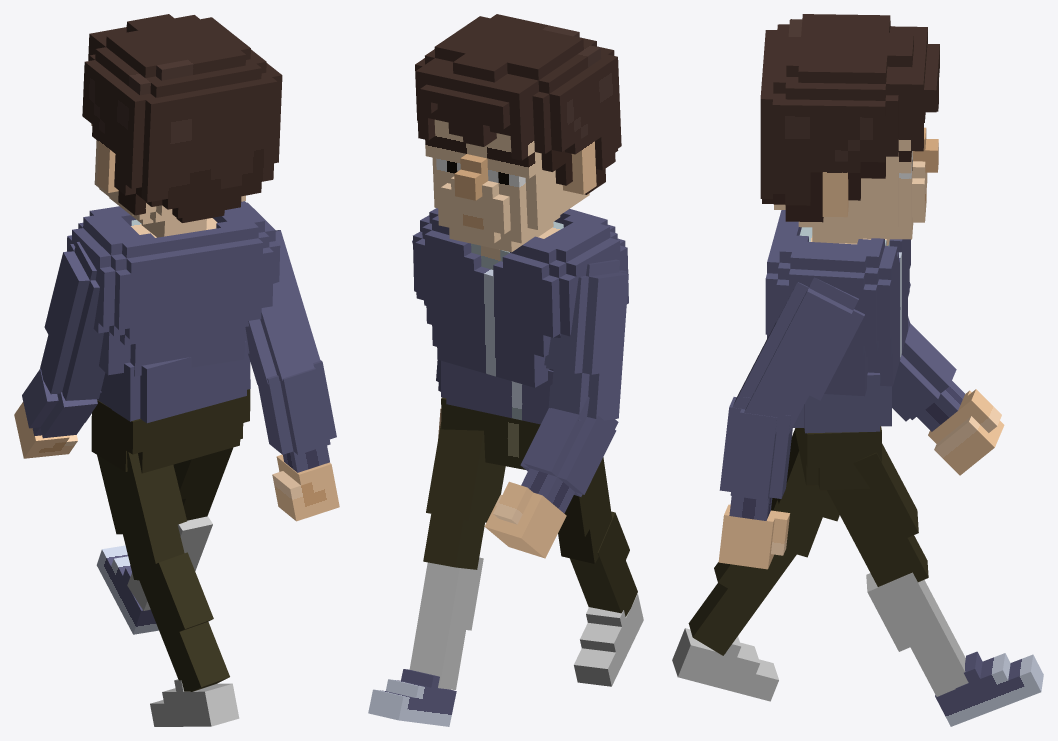
The model's file is older_walk_2.dae.
3 views of the same model, side by side, from view 1: azimuth 30°, elevation 25°; view 2: azimuth 150°, elevation 25°; view 3: azimuth 270°, elevation 25° (orthographic). The views are drawn at different scales.
Visible parts, largest first — view 1: Head-Local, Chest-Local, Hip-Local, Left_Arm-Local, Belly-Local, Left_Leg-Local, Left_Thigh-Local, Right_Forearm-Local, Right_Arm-Local, Left_Foot-Local, Right_Hand-Local, Left_Forearm-Local (+4 smaller); view 2: Head-Local, Chest-Local, Left_Arm-Local, Right_Thigh-Local, Left_Forearm-Local, Right_Leg-Local, Belly-Local, Left_Hand-Local, Left_Foot-Local, Left_Leg-Local, Right_Foot-Local, Left_Thigh-Local (+1 smaller); view 3: Head-Local, Chest-Local, Right_Arm-Local, Right_Thigh-Local, Right_Forearm-Local, Right_Leg-Local, Left_Leg-Local, Left_Forearm-Local, Right_Foot-Local, Left_Foot-Local, Hip-Local, Belly-Local (+3 smaller).
Boxes of the visible parts, x1,y1,x2,y2 form: Head-Local: (82,14,282,237); Chest-Local: (67,201,280,376); Hip-Local: (91,389,250,473); Left_Arm-Local: (40,242,105,400); Belly-Local: (97,341,250,423); Left_Leg-Local: (137,552,229,691); Left_Thigh-Local: (97,451,186,580); Right_Forearm-Local: (258,360,336,472); Right_Arm-Local: (245,230,320,384); Left_Foot-Local: (150,679,239,726); Right_Hand-Local: (272,454,339,521); Left_Forearm-Local: (22,368,101,438); Head-Local: (415,14,621,252); Chest-Local: (413,208,628,387); Left_Arm-Local: (544,259,628,420); Right_Thigh-Local: (423,422,505,569); Left_Forearm-Local: (520,396,618,513); Right_Leg-Local: (409,557,483,689); Belly-Local: (441,360,553,424); Left_Hand-Local: (484,481,566,558); Left_Foot-Local: (574,593,643,686); Left_Leg-Local: (570,511,637,616); Right_Foot-Local: (368,669,456,726); Left_Thigh-Local: (558,457,612,563); Head-Local: (760,14,939,243); Chest-Local: (765,210,910,396); Right_Arm-Local: (732,277,864,433); Right_Thigh-Local: (827,443,928,586); Right_Forearm-Local: (719,397,792,520); Right_Leg-Local: (866,572,968,696); Left_Leg-Local: (688,551,796,655); Left_Forearm-Local: (892,323,964,431); Right_Foot-Local: (935,651,1043,726); Left_Foot-Local: (672,628,778,701); Hip-Local: (795,426,881,490); Belly-Local: (793,372,891,433).
Size of the model in its own units: 21.89 by 29.7 by 59.68.
